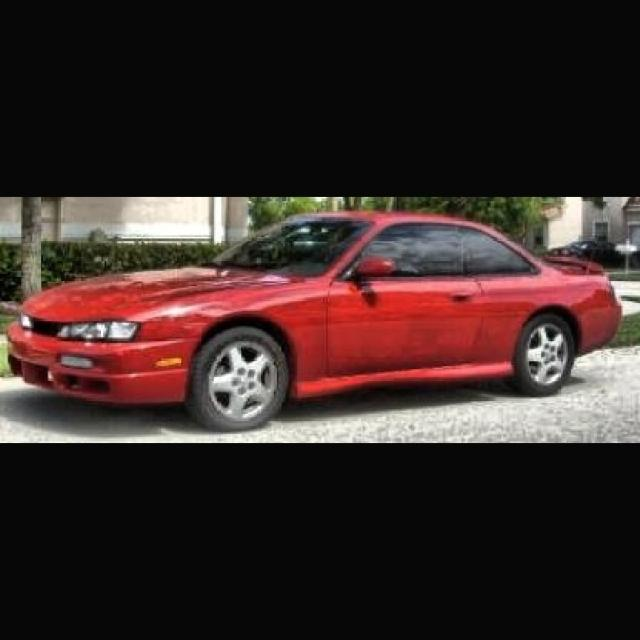maroon: (11, 212, 625, 422)
